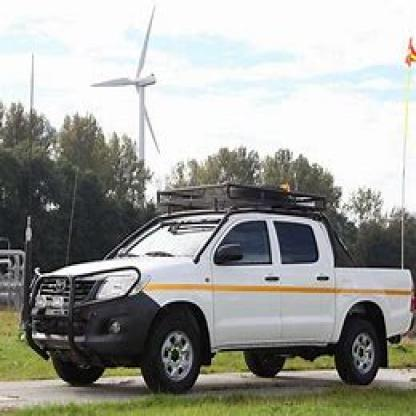light_vehicle: (21, 170, 414, 391)
